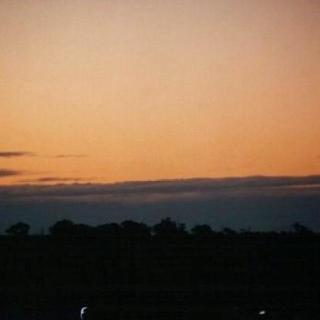Stratocumulus: (0, 31, 320, 263)
